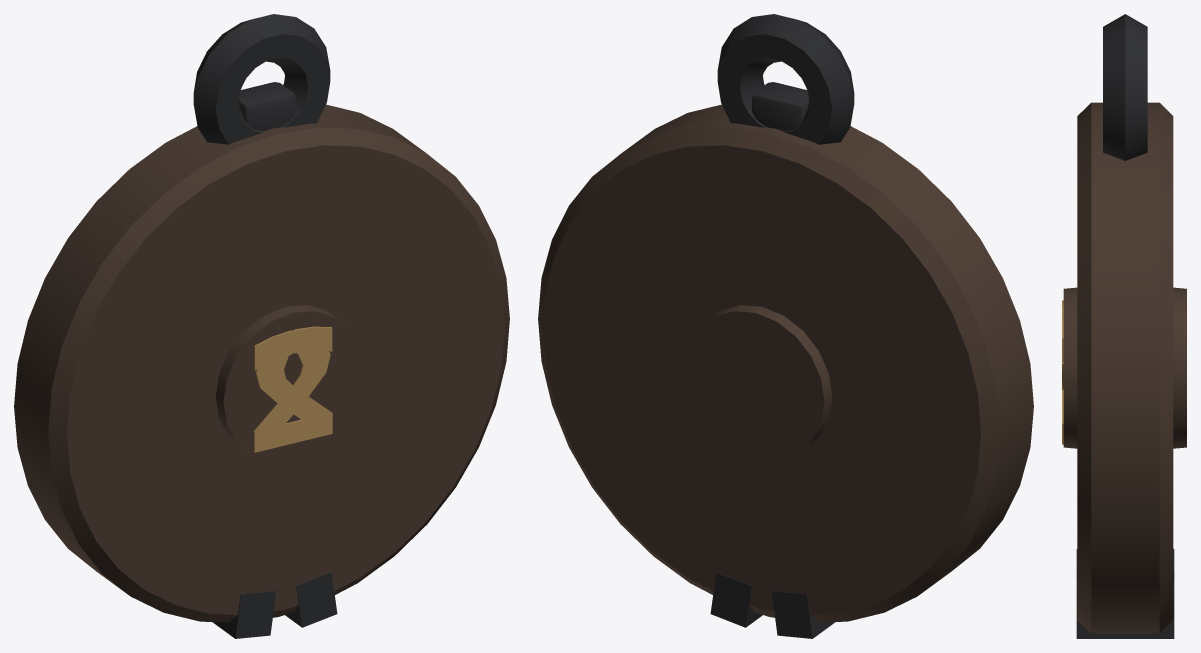
The model's file is weight_2.glb.
3 views of the same model, side by side, from view 1: azimuth 30°, elevation 25°; view 2: azimuth 150°, elevation 25°; view 3: azimuth 270°, elevation 25° (orthographic).
Parts seen in each view (by area): view 1: weight_2; view 2: weight_2; view 3: weight_2.
Boxes of the visible parts, x1,y1,x2,y2 form: weight_2: [14, 14, 509, 638]; weight_2: [538, 14, 1033, 638]; weight_2: [1062, 14, 1186, 638].
Size of the model in its own units: 0.156 by 0.1927 by 0.0365.
